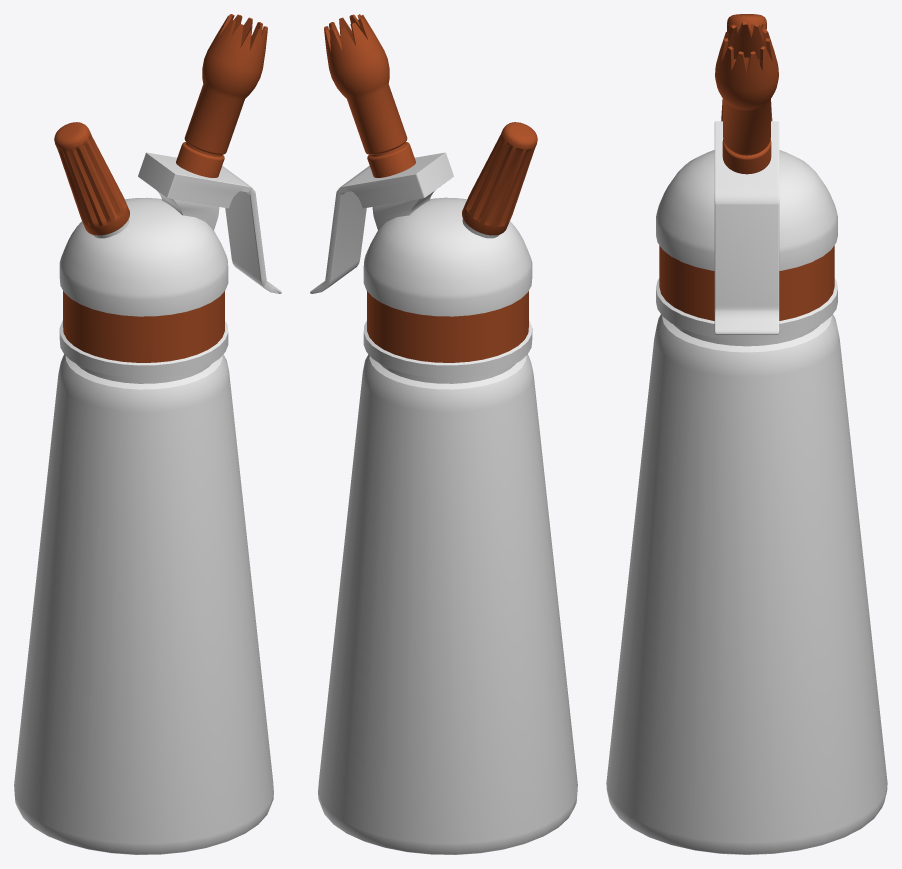
File: cream-sprayer.fbx
3 renders of one model, left to right at view 1: azimuth 30°, elevation 25°; view 2: azimuth 150°, elevation 25°; view 3: azimuth 270°, elevation 25°, orthographic. The views are drawn at different scales.
Visible parts, largest first — view 1: Cube.001, Cube; view 2: Cube.001, Cube; view 3: Cube, Cube.001.
Part boxes in pixels (left/top/right/bottom): Cube.001: left=14, top=14, right=281, bottom=854; Cube: left=60, top=14, right=281, bottom=854; Cube.001: left=316, top=14, right=577, bottom=854; Cube: left=310, top=14, right=530, bottom=854; Cube: left=606, top=14, right=887, bottom=854; Cube.001: left=616, top=14, right=798, bottom=694.
Bounding box in the file's own units: 208 × 641 × 199.
